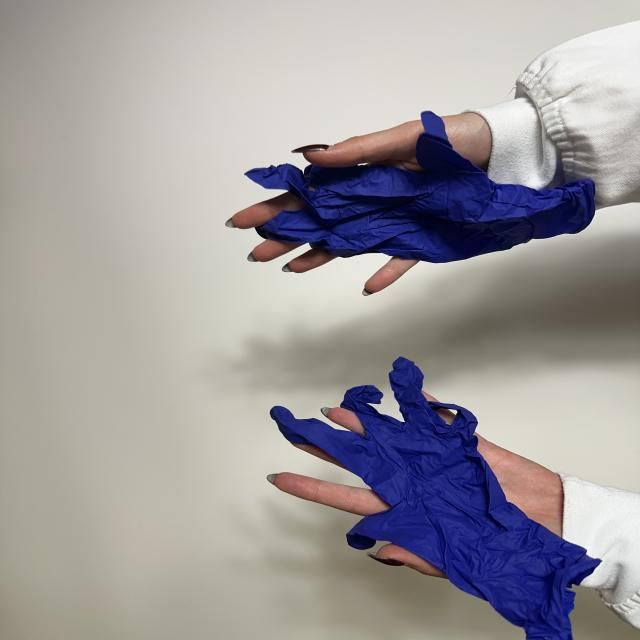glove_not_fitted: (268, 358, 600, 640), (227, 112, 594, 293)
